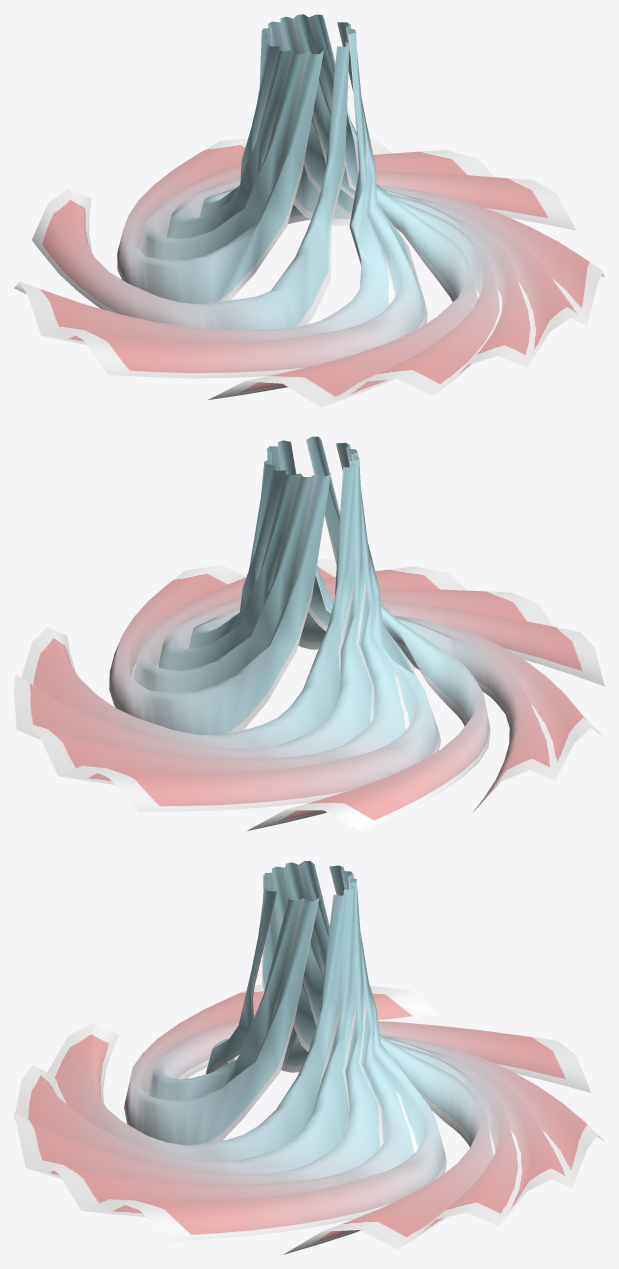
File: bottom_swirl2.glb
3 renders of one model, top to bottom at view 1: azimuth 30°, elevation 25°; view 2: azimuth 150°, elevation 25°; view 3: azimuth 270°, elevation 25°, orthographic.
Visible parts, largest first — view 1: bottom_swirl2; view 2: bottom_swirl2; view 3: bottom_swirl2.
Part boxes in pixels (x1=…): bottom_swirl2: x1=14, y1=14, x2=604, y2=407; bottom_swirl2: x1=14, y1=436, x2=604, y2=832; bottom_swirl2: x1=14, y1=861, x2=604, y2=1254.
Size of the model in its own units: 19.42 by 9.21 by 19.48.
Materials: 1 (1 with a texture image).
